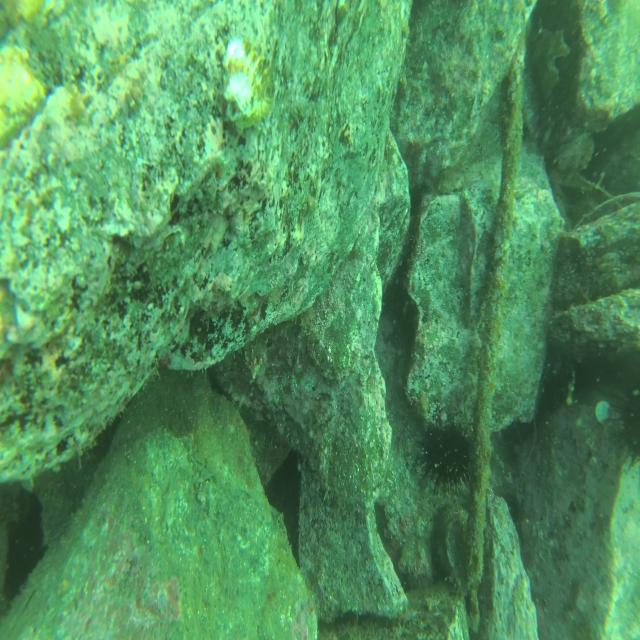echinus: (419, 423, 476, 499), (616, 384, 640, 452)
scallop: (226, 34, 276, 134)
